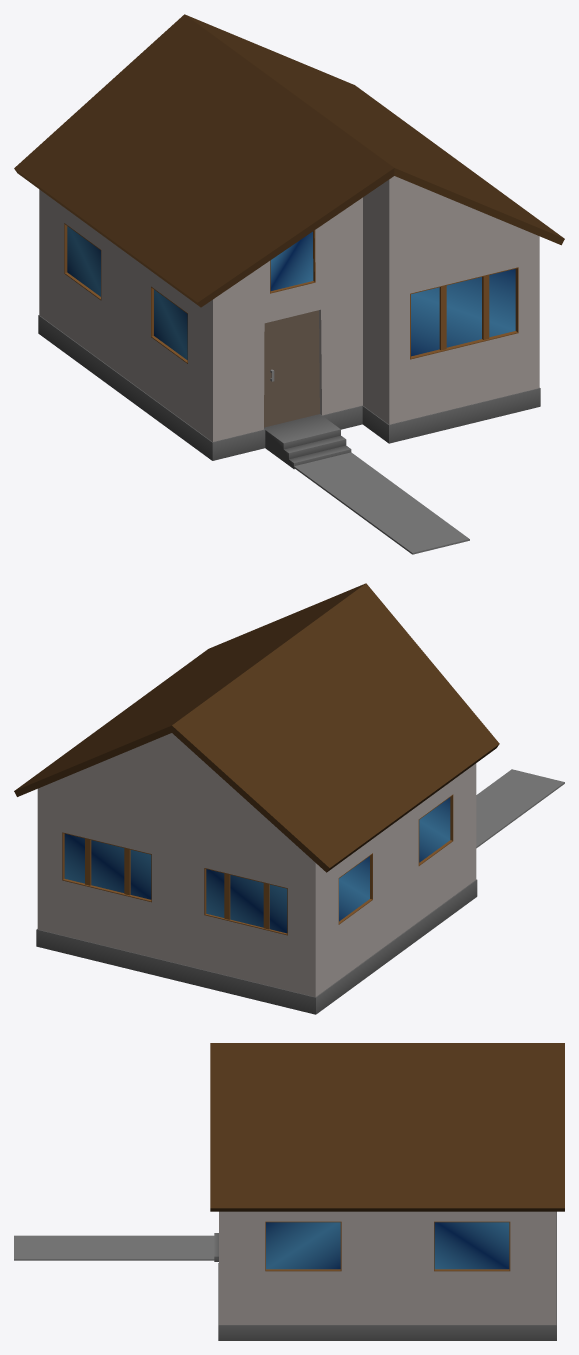
File: cottage_ex_2.fbx
The picture shows the model from 3 angles, top to bottom: view 1: azimuth 30°, elevation 25°; view 2: azimuth 150°, elevation 25°; view 3: azimuth 270°, elevation 25°; orthographic projection. The views are drawn at different scales.
Visible parts, largest first — view 1: cottage_ex_2; view 2: cottage_ex_2; view 3: cottage_ex_2.
Boxes of the visible parts, <box> form: cottage_ex_2: <box>14,14,564,554</box>; cottage_ex_2: <box>14,583,564,1014</box>; cottage_ex_2: <box>14,1043,564,1340</box>.
Bounding box in the file's own units: 899 × 703 × 1490.
